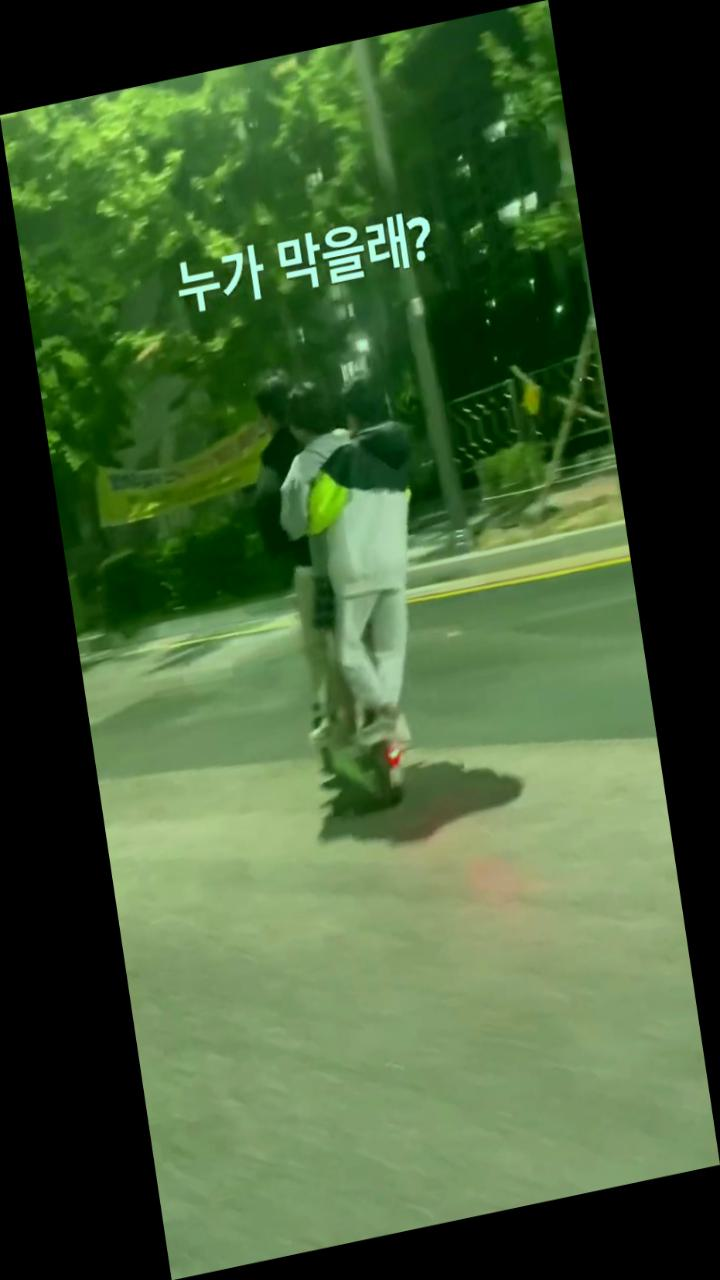multiple: (229, 342, 472, 836)
